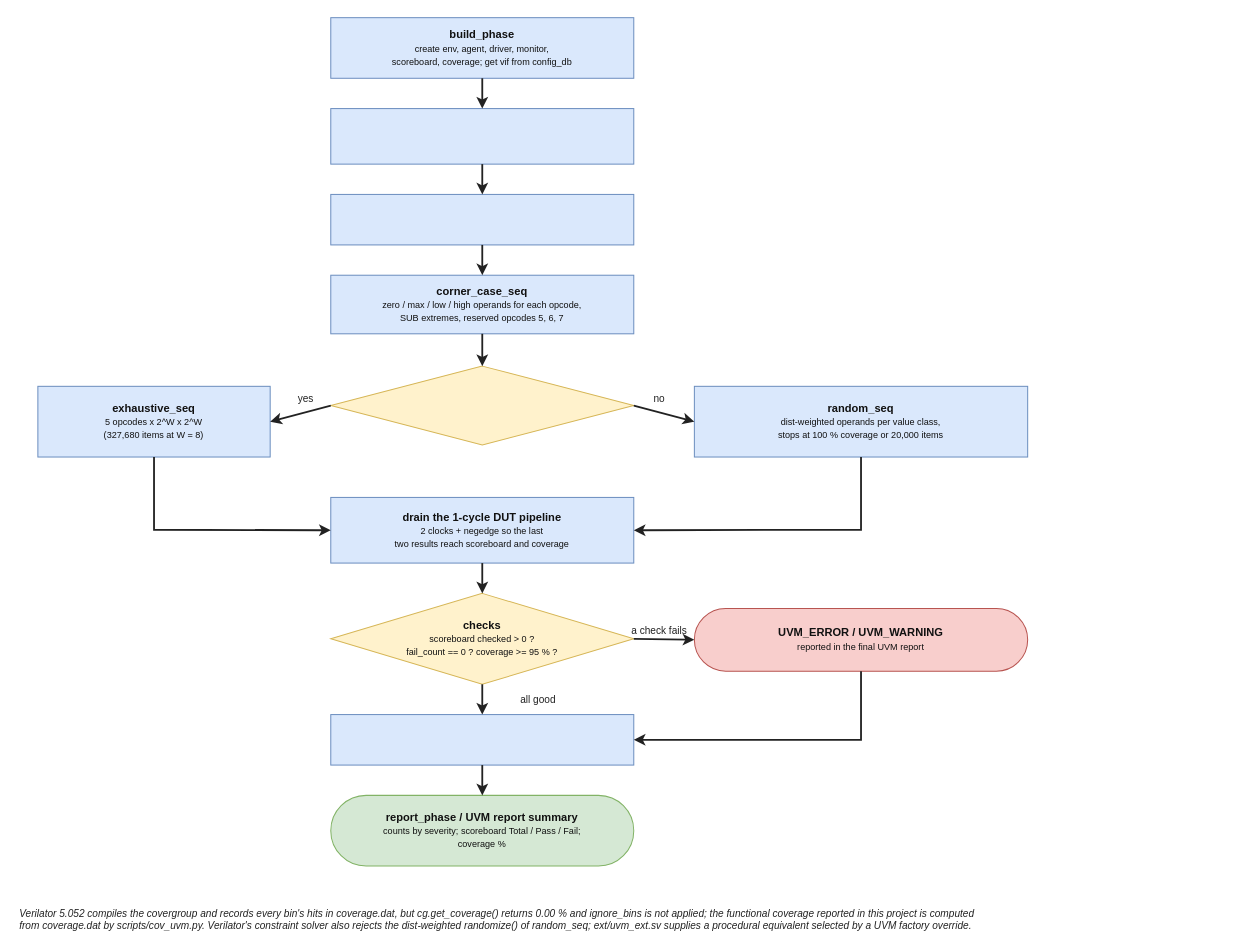
Image size: 1258x950. Some labels were removed from this diagram. Each missing label, with the centre of its shape:
connect_phase monitor ap -> scoreboard, coverage; driver <-> sequencer: the point at 482,136
drop objection: the point at 482,739
run_phase: raise objection reset released after 20 ns: the point at 482,219
WIDTH <= 8 ?: the point at 482,405
